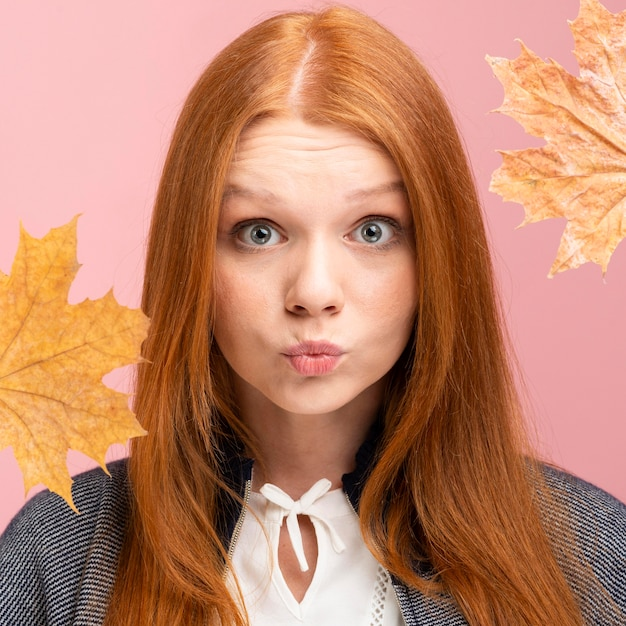teen: (170, 29, 453, 454)
